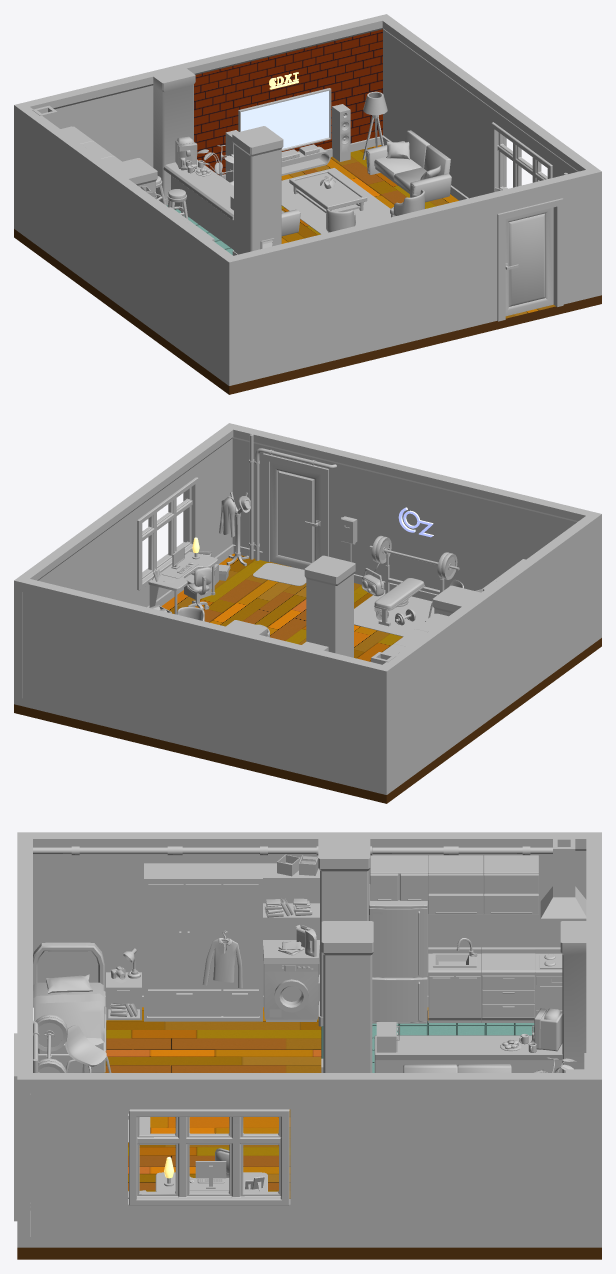
The model's file is Room.fbx.
3 views of the same model, one above another, from view 1: azimuth 30°, elevation 25°; view 2: azimuth 150°, elevation 25°; view 3: azimuth 270°, elevation 25° (orthographic). The views are drawn at different scales.
Visible parts, largest first — view 1: Wall 3, Wall 2, Wall 1, Window.001, Floor, TV, Column, Door, Sofa, Column 3, Counter 2, Plane (+7 smaller); view 2: Wall 1, Wall 2, Wall 3, Window.001, Floor, Door, Column, Window, Plane.001, Pipes, Bench, Desk (+7 smaller); view 3: Window.001, Wall 2, Floor, Wardrobe, Window, Column, Fridge, Bed, Wall 3, Counter 2, Column 2, Conter (+21 smaller).
Boxes of the visible parts, left/top/right/bottom form: Wall 3: left=232, top=168, right=601, bottom=383; Wall 2: left=19, top=106, right=239, bottom=385; Wall 1: left=14, top=16, right=383, bottom=231; Window.001: left=377, top=14, right=596, bottom=200; Floor: left=14, top=145, right=601, bottom=394; TV: left=225, top=88, right=350, bottom=182; Column: left=232, top=126, right=283, bottom=255; Door: left=505, top=207, right=553, bottom=316; Sofa: left=365, top=130, right=451, bottom=202; Column 3: left=153, top=68, right=195, bottom=205; Counter 2: left=163, top=159, right=233, bottom=249; Plane: left=281, top=168, right=390, bottom=234; Wall 1: left=22, top=578, right=392, bottom=794; Wall 2: left=382, top=512, right=601, bottom=790; Wall 3: left=224, top=423, right=592, bottom=601; Window.001: left=14, top=427, right=233, bottom=706; Floor: left=14, top=553, right=601, bottom=803; Door: left=270, top=462, right=320, bottom=569; Column: left=304, top=555, right=355, bottom=657; Window: left=137, top=477, right=198, bottom=590; Plane.001: left=354, top=590, right=434, bottom=636; Pipes: left=249, top=434, right=336, bottom=560; Bench: left=374, top=548, right=444, bottom=626; Desk: left=148, top=552, right=217, bottom=614; Window.001: left=30, top=1073, right=601, bottom=1247; Wall 2: left=17, top=832, right=588, bottom=1007; Floor: left=17, top=1007, right=601, bottom=1259; Wardrobe: left=144, top=863, right=262, bottom=1021; Window: left=129, top=1109, right=289, bottom=1205; Column: left=321, top=921, right=373, bottom=1072; Fridge: left=369, top=884, right=427, bottom=1023; Bed: left=33, top=942, right=106, bottom=1072; Wall 3: left=14, top=838, right=32, bottom=1247; Counter 2: left=374, top=1035, right=562, bottom=1072; Column 2: left=318, top=837, right=370, bottom=1026; Conter: left=481, top=947, right=535, bottom=1022.
Size of the model in its own units: 2585 by 875 by 2585.
